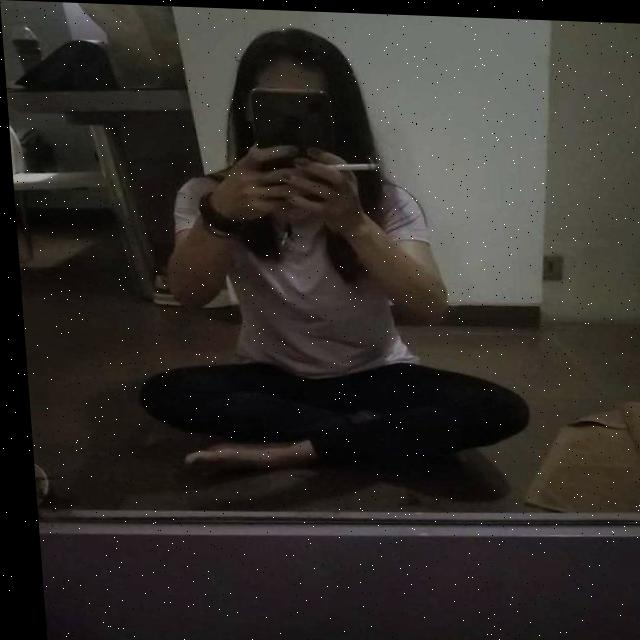cigarette: (324, 157, 378, 169)
